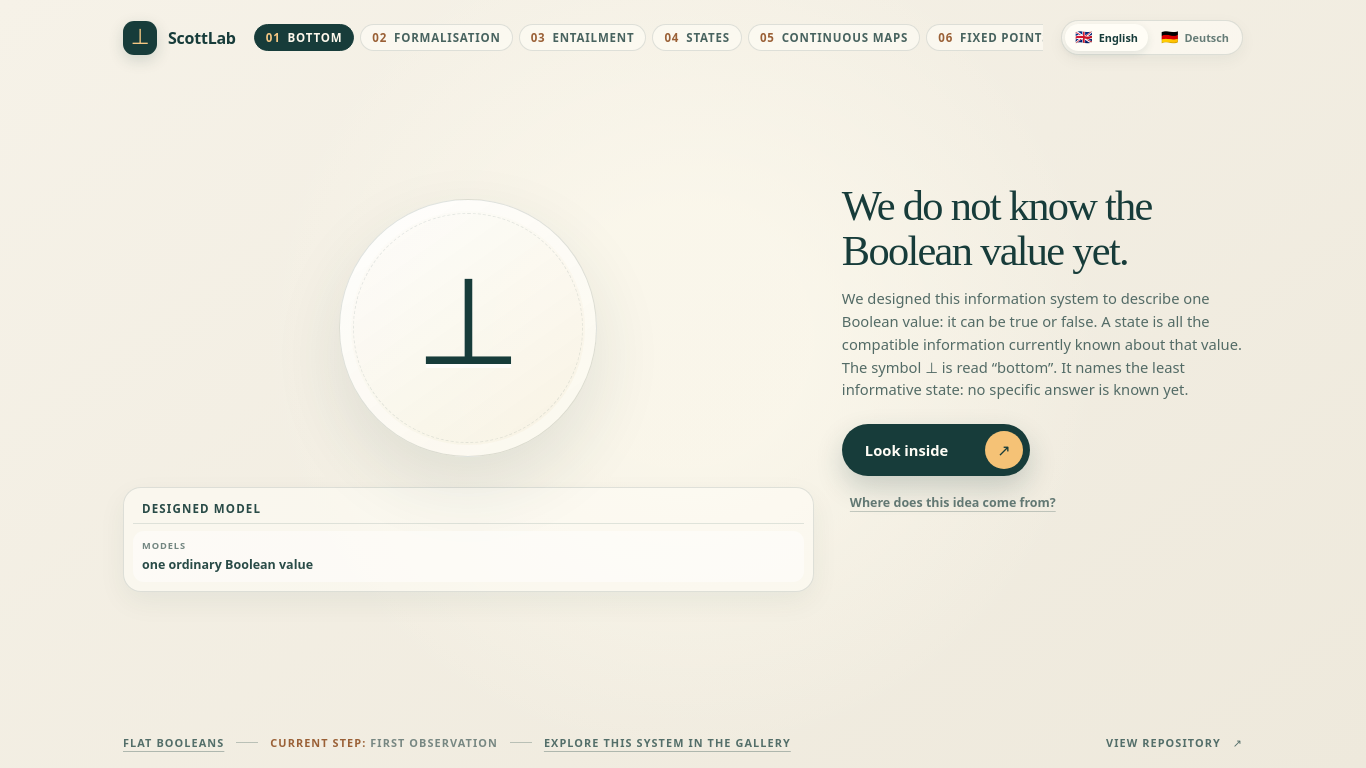
Test: ScottLab introduction and bottom-first lesson › introduces Dana Scott and the purpose of information systems
The width and height of the screenshot is (1366, 768).
Click the button "Where does this idea come from?".
click(953, 503)  # box [842,489,1064,516]
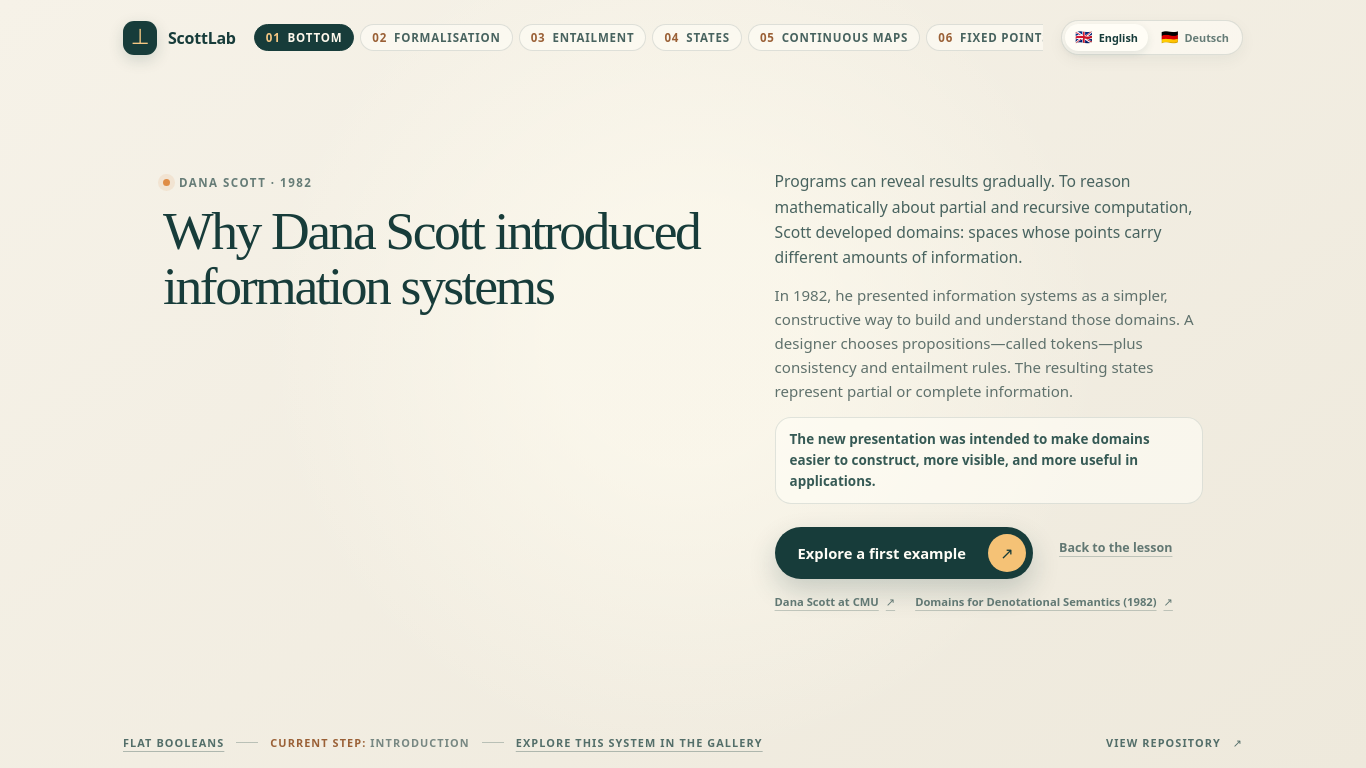
Result: the heading "Why Dana Scott introduced information systems" is shown at [163,204,743,314]
Result: the text "partial and recursive computation" is shown at [775,170,1192,268]
Result: the text "simpler, constructive way to build and understand" is shown at [775,285,1194,401]
